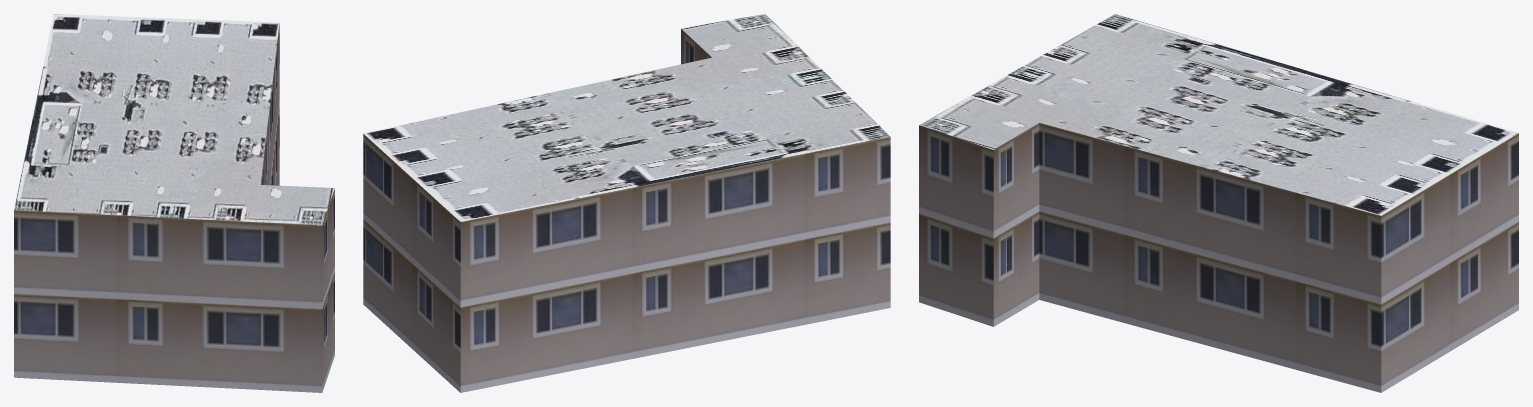
The model's file is ResTex__3954.fbx.
3 views of the same model, side by side, from view 1: azimuth 30°, elevation 25°; view 2: azimuth 150°, elevation 25°; view 3: azimuth 270°, elevation 25° (orthographic). The views are drawn at different scales.
Parts seen in each view (by area): view 1: CityEngineMaterial_21_m, CityEngineMaterial_m; view 2: CityEngineMaterial_21_m, CityEngineMaterial_m; view 3: CityEngineMaterial_21_m, CityEngineMaterial_m.
Part boxes in pixels (x1,y1,x2,y2): CityEngineMaterial_21_m: (14,23,334,392); CityEngineMaterial_m: (14,14,334,225); CityEngineMaterial_21_m: (363,29,890,392); CityEngineMaterial_m: (363,14,890,221); CityEngineMaterial_21_m: (919,122,1518,392); CityEngineMaterial_m: (919,14,1518,215).
Size of the model in its own units: 14.66 by 6 by 18.41.
2 materials, 2 textured.
